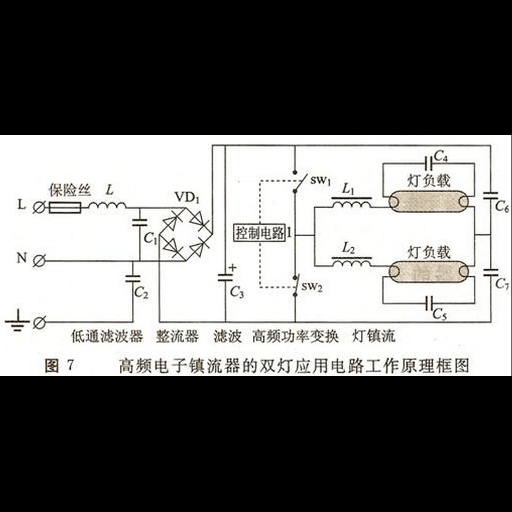capacitor: (479, 186, 499, 202), (120, 271, 144, 284), (419, 294, 436, 311), (127, 216, 151, 228), (420, 153, 434, 173), (480, 266, 501, 278)
firstpolarcapacitor: (216, 264, 239, 284)
fuse: (47, 199, 84, 218)
gnd: (1, 320, 31, 333)
inductor: (328, 199, 375, 212), (88, 199, 129, 213), (328, 259, 374, 268)
rectifierbridge: (158, 209, 212, 262)
